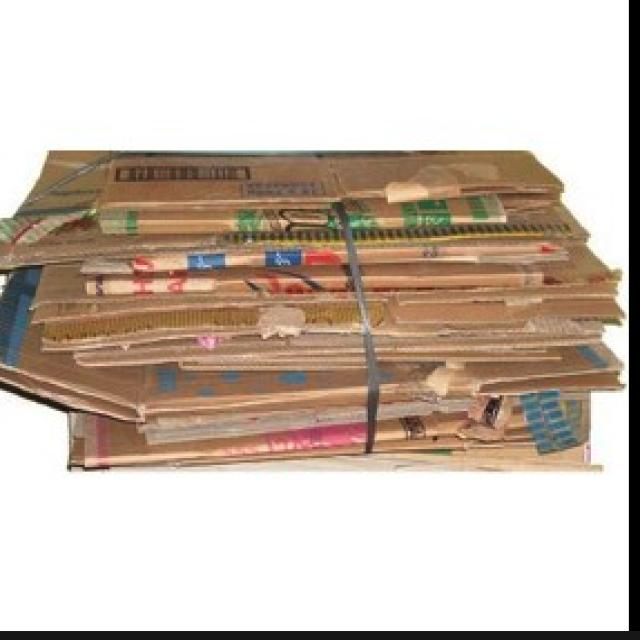Kardus: (0, 146, 627, 472)
